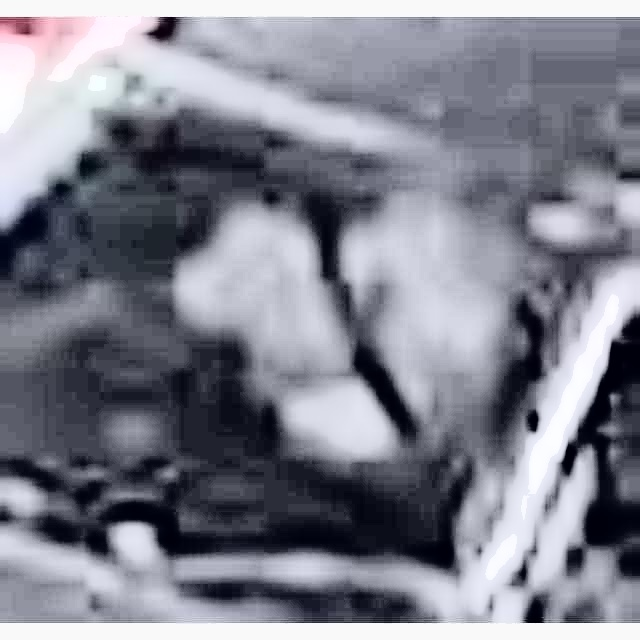pakai: (132, 116, 441, 480)
